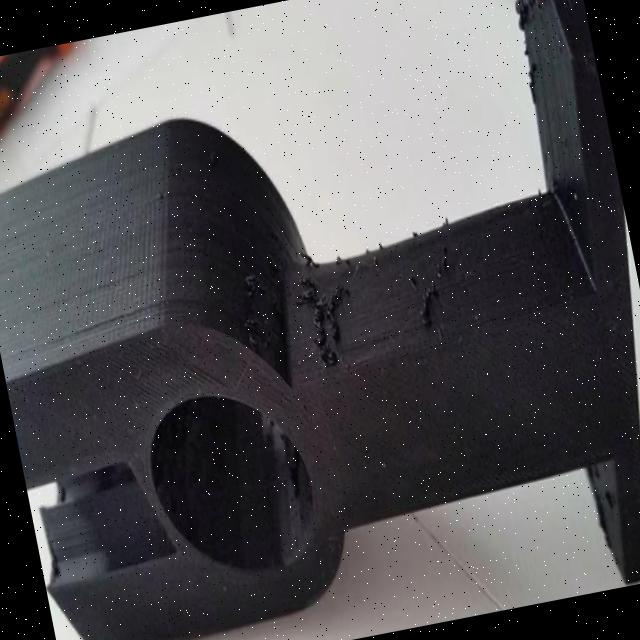blobs: (288, 256, 362, 376), (399, 225, 468, 346), (502, 0, 565, 108), (232, 261, 280, 356)
